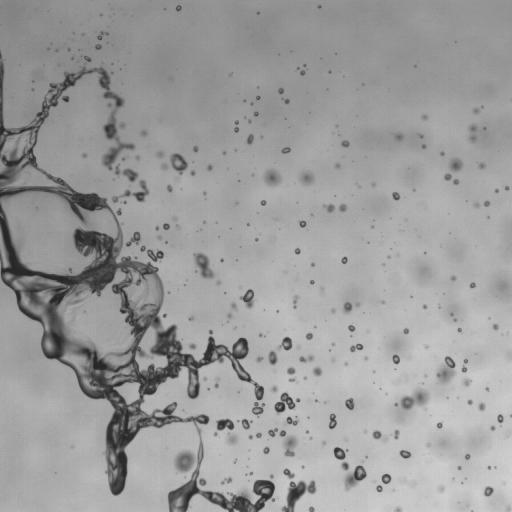droplet: (281, 468, 316, 511), (394, 387, 429, 409), (214, 418, 237, 445), (274, 392, 300, 415), (436, 356, 456, 384), (193, 252, 214, 278), (170, 153, 187, 174), (263, 168, 281, 186), (240, 289, 254, 308), (299, 171, 313, 185), (277, 337, 292, 350), (448, 158, 462, 171), (268, 350, 277, 365), (329, 413, 337, 429), (284, 416, 298, 425), (240, 419, 251, 429), (345, 398, 354, 410), (350, 343, 363, 351), (381, 473, 391, 483), (484, 486, 493, 497), (399, 450, 411, 458), (343, 302, 351, 313), (312, 367, 321, 376), (324, 204, 334, 212), (462, 378, 471, 386), (221, 477, 231, 484), (392, 354, 399, 363), (247, 134, 253, 144), (393, 429, 399, 439), (341, 140, 349, 147), (392, 192, 399, 200), (230, 303, 237, 311), (188, 342, 196, 349), (287, 367, 295, 374), (270, 385, 277, 393), (281, 147, 290, 153), (497, 414, 503, 423), (444, 173, 451, 180), (339, 204, 346, 211), (299, 220, 306, 227), (348, 324, 355, 331), (305, 333, 312, 340), (478, 403, 485, 410), (395, 134, 402, 140), (161, 163, 168, 169), (478, 163, 485, 169), (263, 447, 269, 454), (376, 485, 382, 492), (437, 486, 444, 492), (141, 130, 147, 136), (157, 151, 163, 157), (163, 223, 169, 229), (294, 248, 300, 254), (341, 257, 347, 263), (492, 324, 498, 330), (256, 356, 262, 362), (84, 56, 91, 61), (167, 185, 172, 192), (289, 377, 296, 382), (95, 44, 101, 49), (473, 108, 479, 113), (193, 146, 198, 152), (437, 422, 442, 428), (256, 432, 261, 438), (505, 506, 511, 511), (176, 5, 181, 10), (300, 70, 305, 75), (278, 88, 283, 93), (422, 114, 427, 119), (335, 163, 340, 168), (207, 165, 212, 170), (190, 170, 195, 175), (453, 179, 458, 184), (261, 200, 266, 205), (484, 201, 489, 206), (216, 280, 221, 285), (470, 282, 475, 287), (403, 328, 408, 333), (467, 399, 472, 404), (465, 454, 470, 459), (309, 506, 314, 511), (283, 99, 289, 103), (227, 313, 231, 319), (82, 153, 87, 157), (474, 203, 479, 207), (173, 216, 177, 221), (490, 426, 495, 430), (248, 435, 253, 439), (254, 112, 258, 116), (505, 186, 509, 190), (157, 235, 161, 239), (451, 276, 455, 280), (310, 280, 314, 284), (331, 308, 335, 312), (189, 316, 193, 320), (73, 310, 76, 315), (422, 144, 425, 148), (136, 155, 139, 159), (35, 206, 38, 210), (155, 226, 158, 230), (422, 305, 426, 308), (458, 328, 461, 332), (259, 334, 263, 337), (486, 387, 489, 391), (322, 441, 325, 445), (256, 96, 259, 99), (108, 103, 111, 106), (441, 152, 444, 155), (495, 189, 498, 192), (311, 263, 314, 266), (320, 287, 323, 290), (381, 300, 384, 303), (356, 303, 359, 306), (203, 377, 206, 380), (315, 399, 318, 402), (457, 466, 460, 469), (122, 201, 126, 203), (248, 120, 251, 122), (420, 134, 422, 137), (372, 183, 375, 185), (255, 238, 257, 241), (220, 259, 223, 261), (450, 313, 453, 315), (454, 318, 456, 321), (425, 345, 427, 348), (365, 357, 367, 360), (304, 376, 306, 379), (318, 5, 320, 7), (223, 152, 225, 154), (122, 158, 124, 160), (203, 192, 205, 194), (332, 343, 334, 345), (344, 362, 346, 364), (306, 431, 308, 433), (427, 444, 429, 446), (302, 466, 304, 468), (247, 473, 249, 475), (403, 479, 405, 481)
ligament: (0, 52, 271, 511), (333, 446, 366, 490), (111, 180, 149, 202), (268, 428, 297, 456), (372, 430, 388, 441), (469, 124, 477, 141), (299, 355, 313, 362), (461, 359, 467, 372), (97, 32, 107, 39), (293, 295, 298, 308), (234, 120, 238, 132), (393, 506, 402, 511), (214, 377, 218, 387), (507, 352, 511, 361), (510, 414, 511, 417)
